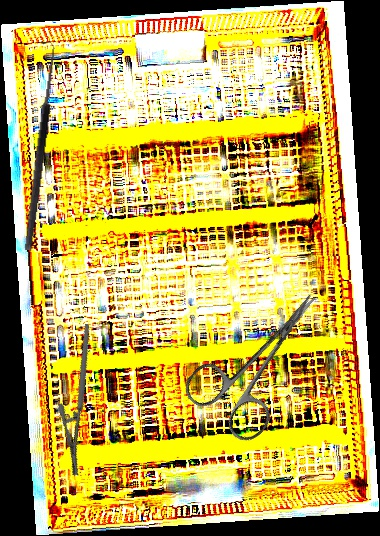Hook Surgical: (13, 41, 60, 251)
Iris Scissors: (178, 268, 351, 449)
Needle Holder: (27, 323, 136, 478)
